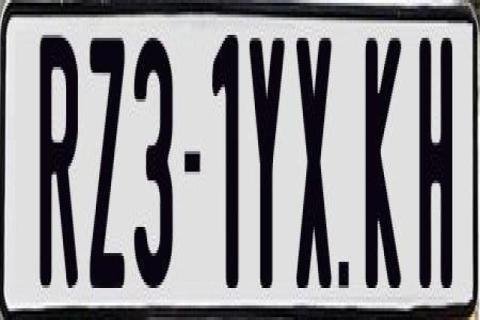0: (131, 35, 172, 299), (210, 32, 239, 294)
H: (419, 29, 456, 285)
K: (364, 32, 404, 294)
R: (39, 32, 82, 288)
X: (293, 38, 331, 306)
Y: (249, 38, 289, 291)
Z: (90, 38, 125, 306)
